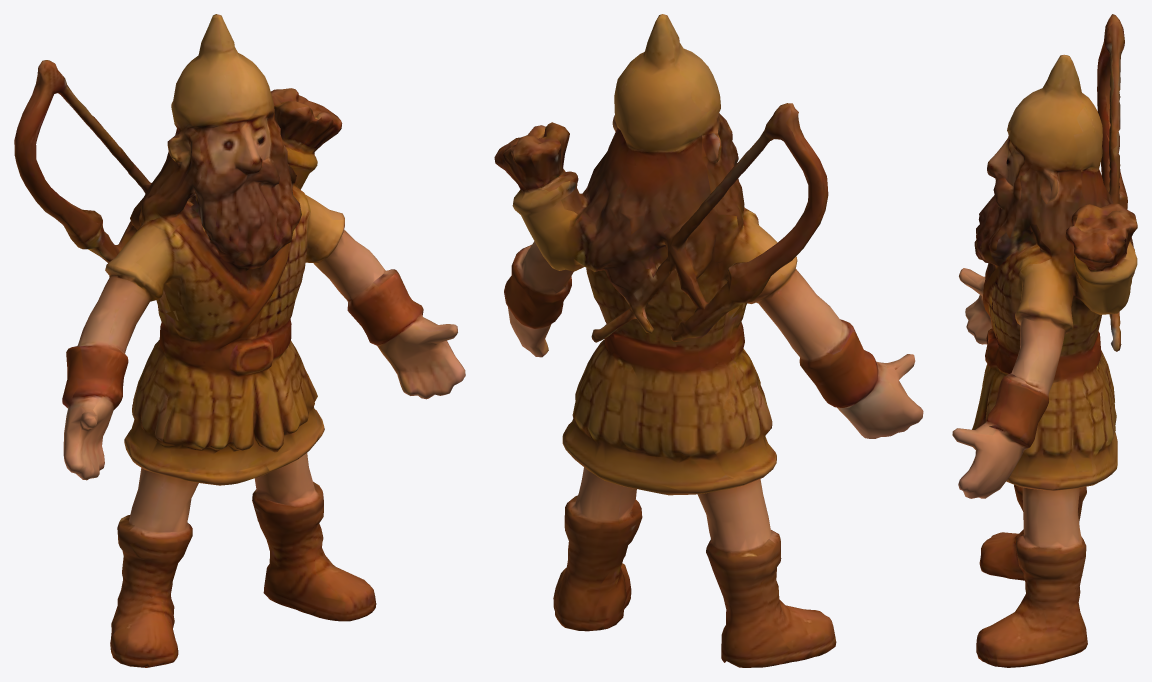
The model's file is char_assyrian_archer.glb.
3 views of the same model, side by side, from view 1: azimuth 30°, elevation 25°; view 2: azimuth 150°, elevation 25°; view 3: azimuth 270°, elevation 25° (orthographic). The views are drawn at different scales.
Parts seen in each view (by area): view 1: geometry_0; view 2: geometry_0; view 3: geometry_0.
Part boxes in pixels (<box>): geometry_0: <box>14,14,465,667</box>; geometry_0: <box>494,14,923,667</box>; geometry_0: <box>952,14,1137,667</box>.
Bounding box in the file's own units: 1.36 × 1.97 × 0.5914.
1 material, 1 textured.
